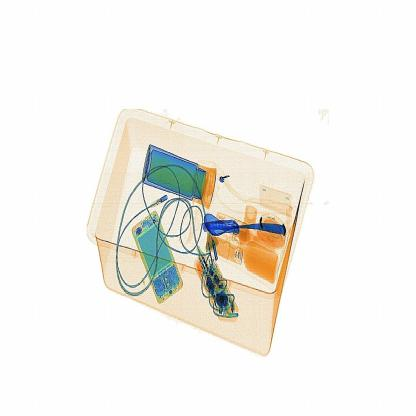knife: (195, 210, 250, 240)
